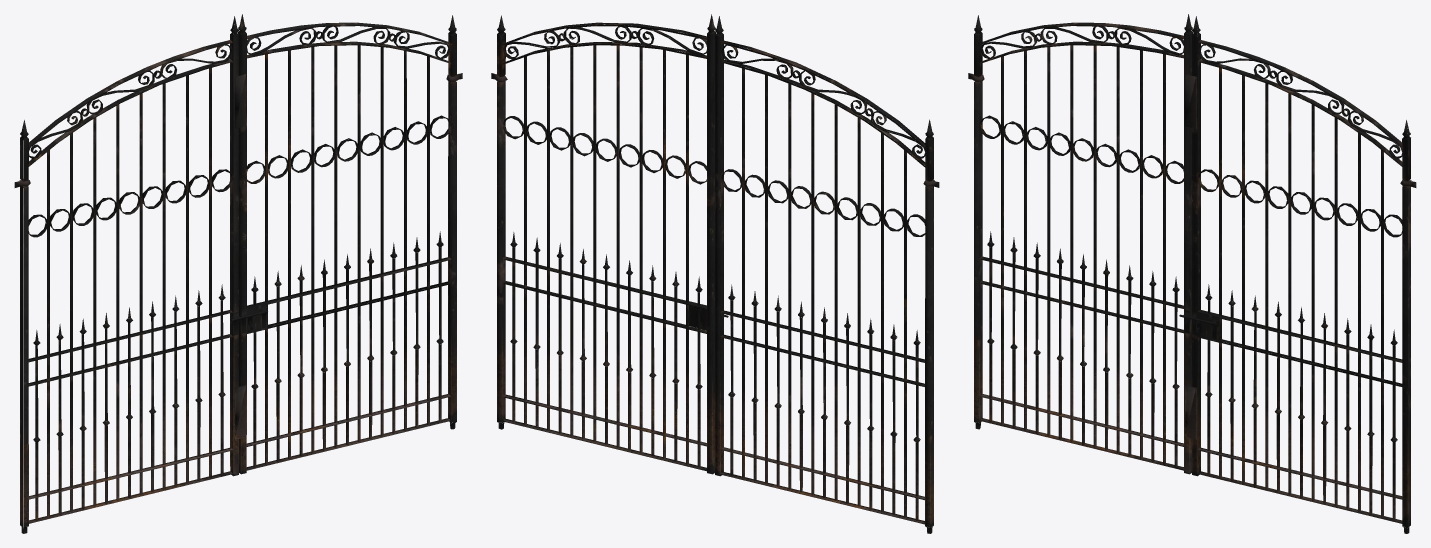
The model's file is large_iron_gate.glb.
3 views of the same model, side by side, from view 1: azimuth 30°, elevation 25°; view 2: azimuth 150°, elevation 25°; view 3: azimuth 330°, elevation 25° (orthographic).
Visible parts, largest first — view 1: large_iron_gate_right_door, large_iron_gate_left_door; view 2: large_iron_gate_left_door, large_iron_gate_right_door; view 3: large_iron_gate_right_door, large_iron_gate_left_door.
Part boxes in pixels (box(x1,y1,x2,y2)): large_iron_gate_right_door: box(235, 14, 456, 474); large_iron_gate_left_door: box(20, 16, 240, 533); large_iron_gate_left_door: box(715, 16, 933, 533); large_iron_gate_right_door: box(497, 14, 715, 474); large_iron_gate_right_door: box(1185, 16, 1410, 533); large_iron_gate_left_door: box(974, 14, 1192, 474).
Size of the model in its own units: 2.95 by 2.93 by 0.0984.
1 material, 1 textured.
